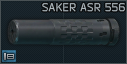SilencerCo SAKER ASR 556 5.56x45 sound suppressor: (0, 0, 127, 64)
